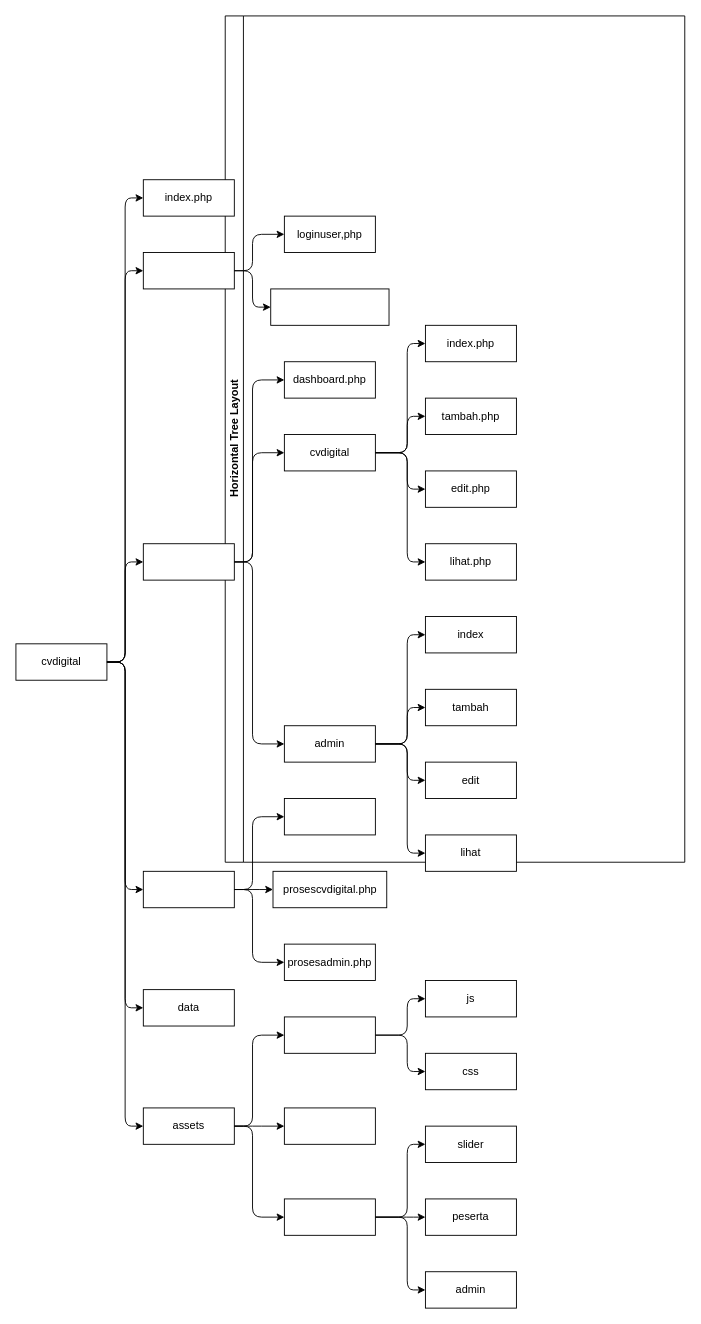
The diagram is 701 pixels wide and 1324 high, and some of its shapes have lost their labels. The shapes that lost their labels are listed below. From the top down, each one's centre as x and y in pixels, then its label:
At [188,270]: "auth".
At [329,306]: "registrasipeserta.php".
At [188,561]: "pages".
At [329,816]: "proseslogin.php".
At [188,889]: "proses".
At [329,1034]: "dist".
At [329,1125]: "plugins".
At [329,1216]: "image".
